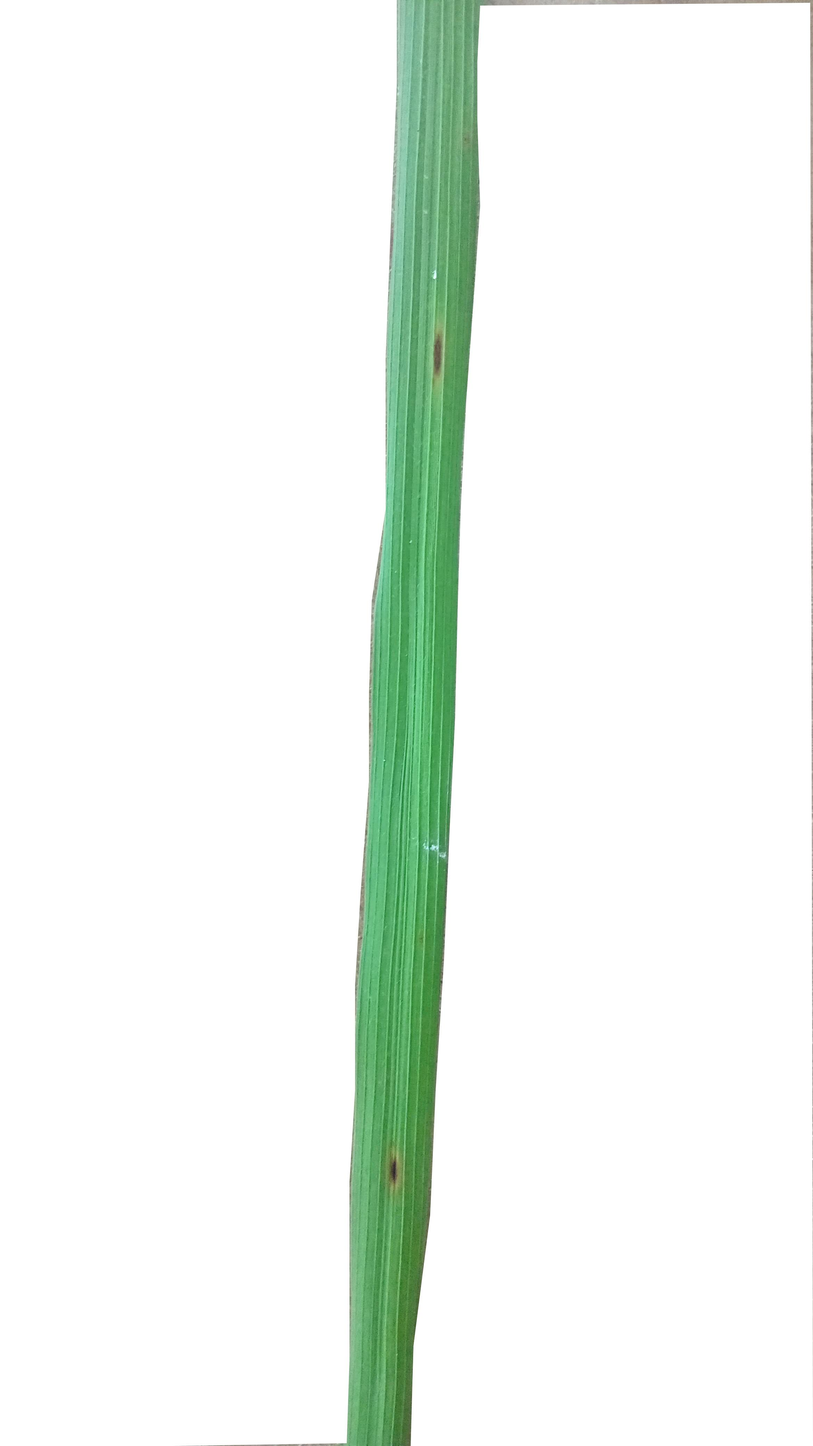Brown spot: (382, 1133, 408, 1211), (424, 324, 451, 392)
